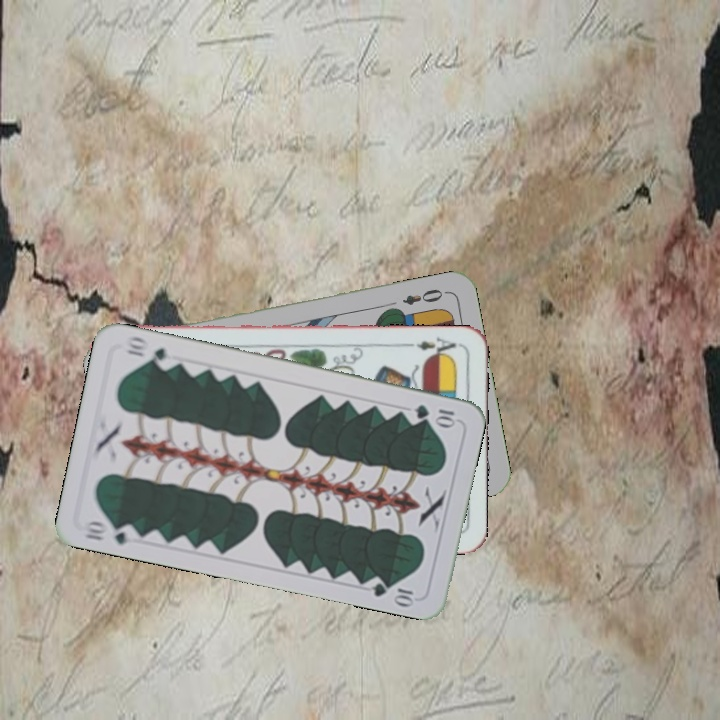EA: (403, 333, 459, 359)
EO: (398, 284, 450, 308)
G10: (79, 517, 140, 547), (411, 400, 458, 428)
